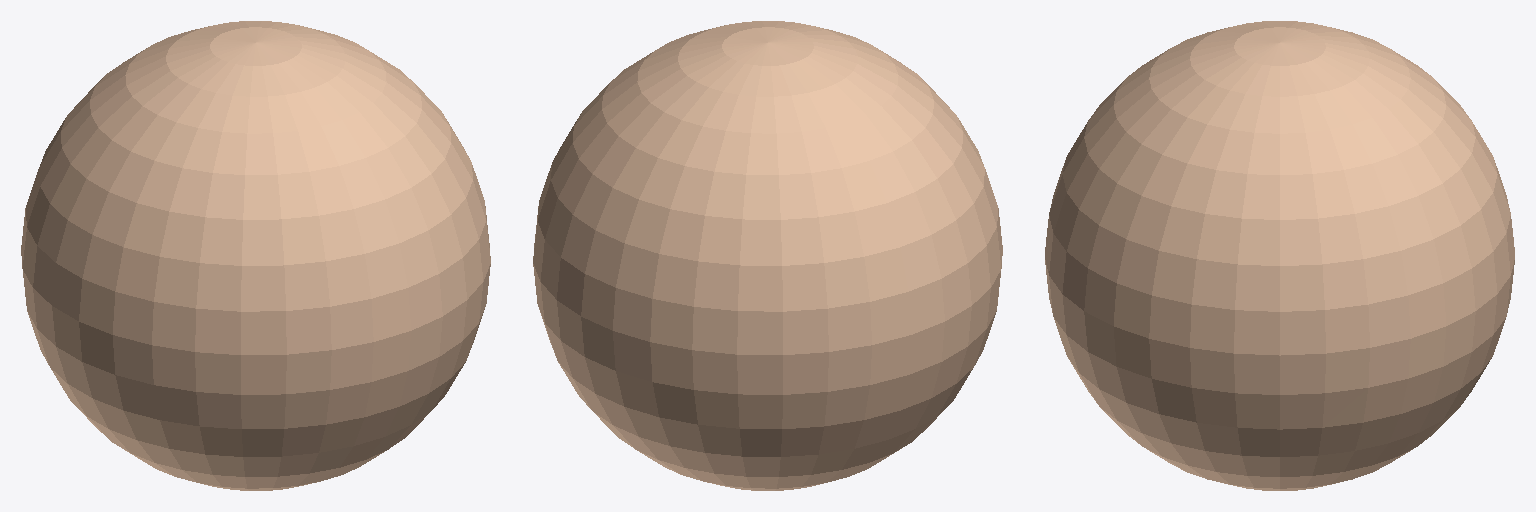
The picture shows the model from 3 angles: view 1: azimuth 30°, elevation 25°; view 2: azimuth 150°, elevation 25°; view 3: azimuth 270°, elevation 25°; orthographic projection.
Visible parts, largest first — view 1: 球體.007_球體.008; view 2: 球體.007_球體.008; view 3: 球體.007_球體.008.
Boxes of the visible parts, box(x1,y1,x2,y2) form: 球體.007_球體.008: box(21, 21, 490, 490); 球體.007_球體.008: box(533, 21, 1002, 490); 球體.007_球體.008: box(1045, 21, 1514, 490).
Bounding box in the file's own units: 0.4784 × 0.4784 × 0.4784.
1 materials, 1 textured.